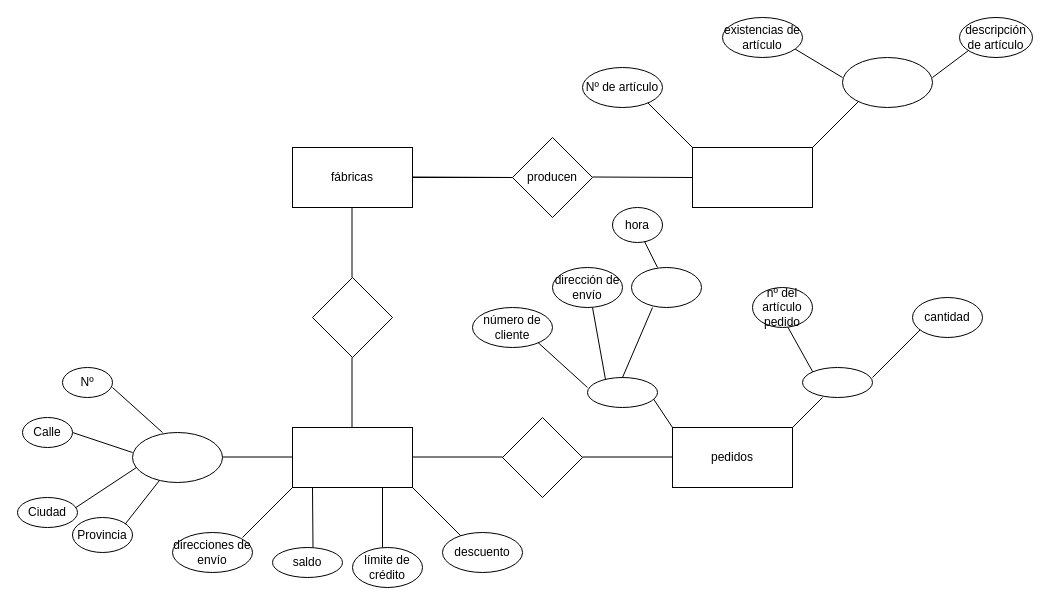
This 1050x605 diagram has some shape labels left out. The centre of each missing label's shape, as x and y in pixels:
artículos: [752,177]
cabecera: [622,392]
clientes: [352,457]
cuerpo del pedido: [837,382]
fecha del pedido: [666,287]
Fábricas que lo sitribuyen: [887,82]
hacen: [542,457]
nº cliente: [177,457]
tienen: [352,317]
